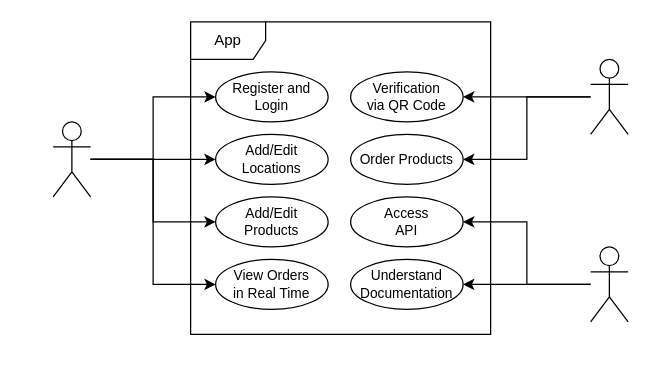
Some shapes in this 665 by 370 pixel diagram are drawn without their labels. The shapes that lost their labels are listed below. From the top down, each one's centre as x and y in pixels, then its label:
At [608,96]: "Location Visitor".
At [71,159]: "Location Representative".
At [608,284]: "Developer".
